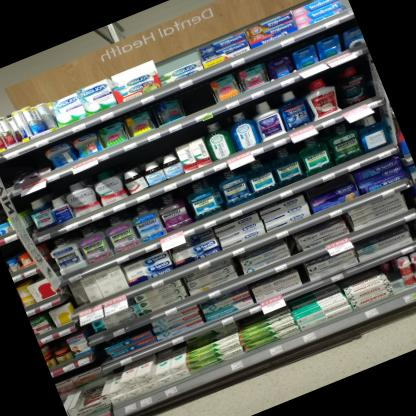empty_space: (0, 146, 49, 187), (174, 79, 217, 115)
